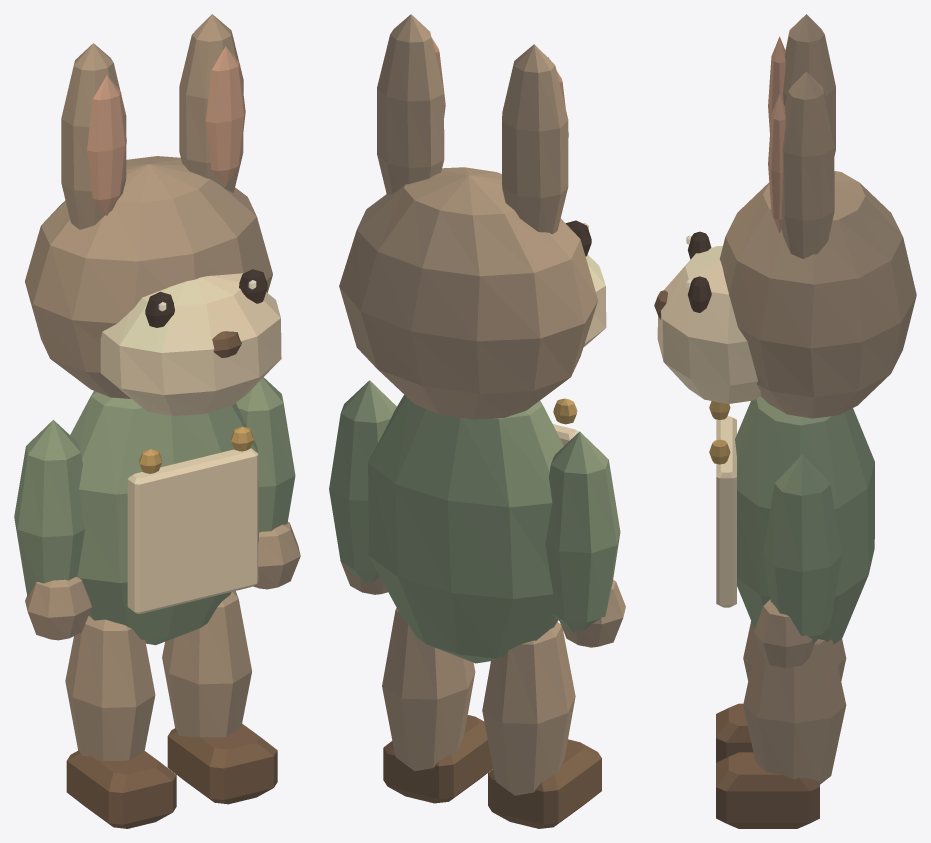
The model's file is npc_nele.glb.
3 renders of one model, left to right at view 1: azimuth 30°, elevation 25°; view 2: azimuth 150°, elevation 25°; view 3: azimuth 270°, elevation 25°, orthographic. The views are drawn at different scales.
Parts seen in each view (by area): view 1: npc_nele, npc_nele_leg_l, npc_nele_leg_r, npc_nele_arm_l, npc_nele_arm_r; view 2: npc_nele, npc_nele_leg_l, npc_nele_leg_r, npc_nele_arm_l, npc_nele_arm_r; view 3: npc_nele, npc_nele_leg_r, npc_nele_arm_r, npc_nele_leg_l.
Part boxes in pixels (x1,y1,x2,y2): npc_nele: [25, 14, 281, 645]; npc_nele_leg_l: [65, 616, 176, 828]; npc_nele_leg_r: [162, 591, 277, 804]; npc_nele_arm_l: [14, 420, 91, 640]; npc_nele_arm_r: [236, 377, 300, 589]; npc_nele: [339, 14, 606, 663]; npc_nele_leg_l: [482, 622, 601, 828]; npc_nele_leg_r: [382, 608, 493, 803]; npc_nele_arm_l: [545, 431, 625, 647]; npc_nele_arm_r: [329, 380, 396, 594]; npc_nele: [654, 14, 916, 644]; npc_nele_leg_r: [716, 639, 846, 828]; npc_nele_arm_r: [754, 454, 841, 668]; npc_nele_leg_l: [716, 621, 846, 762].
Size of the model in its own units: 0.646 by 1.7 by 0.5399.
